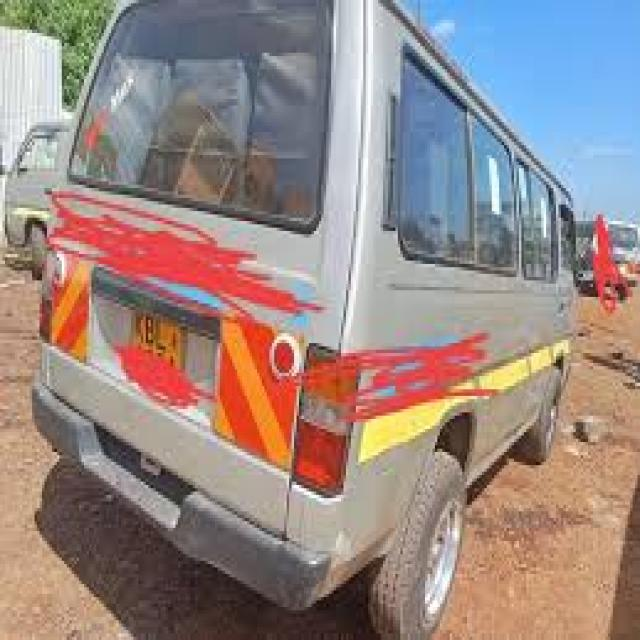matatu: (2, 0, 608, 636)
